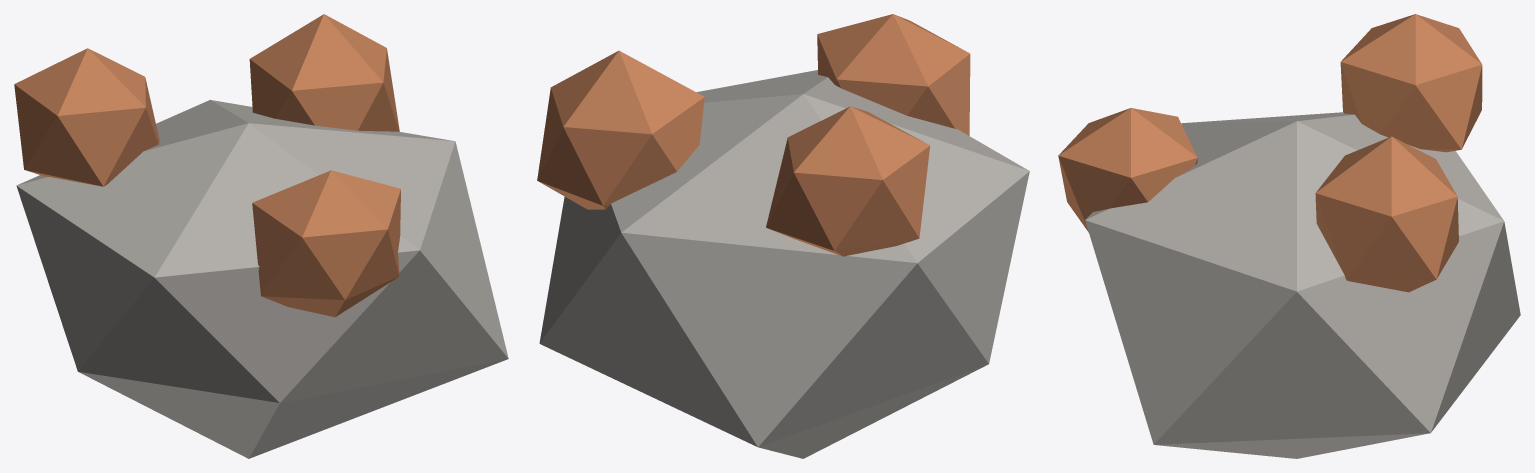
File: minerio_ferro.glb
3 views of the same model, side by side, from view 1: azimuth 30°, elevation 25°; view 2: azimuth 150°, elevation 25°; view 3: azimuth 270°, elevation 25° (orthographic). The views are drawn at different scales.
Visible parts, largest first — view 1: minerio_ferro; view 2: minerio_ferro; view 3: minerio_ferro.
Part boxes in pixels (x1,y1,x2,y2): minerio_ferro: [14, 14, 508, 458]; minerio_ferro: [537, 14, 1029, 458]; minerio_ferro: [1058, 14, 1520, 458].
Size of the model in its own units: 0.1849 by 0.1837 by 0.1951.
